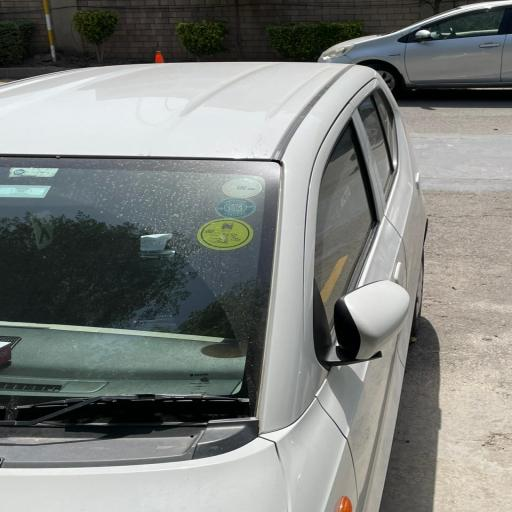bnu_sticker: (195, 216, 255, 250)
